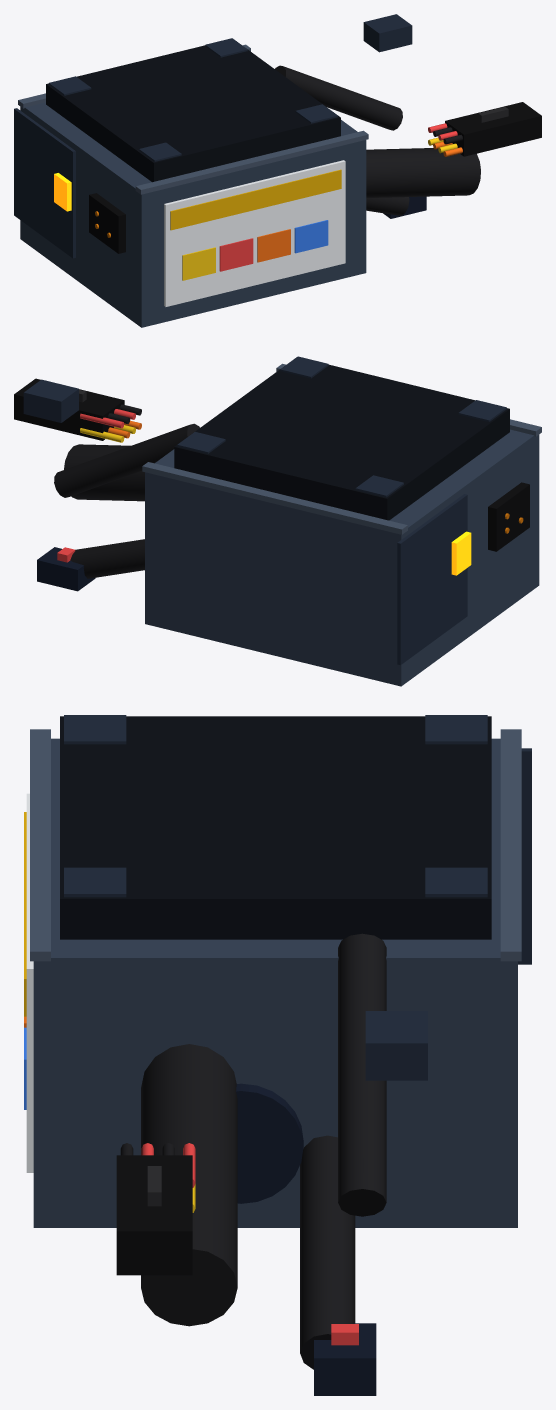
Rendered from power_supply.glb.
3 views of the same model, one above another, from view 1: azimuth 30°, elevation 25°; view 2: azimuth 150°, elevation 25°; view 3: azimuth 270°, elevation 25° (orthographic). The views are drawn at different scales.
Bounding box in the file's own units: 0.287 × 0.1137 × 0.1468.
